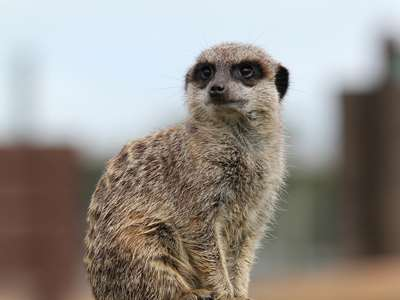meerkat: (71, 33, 300, 298)
